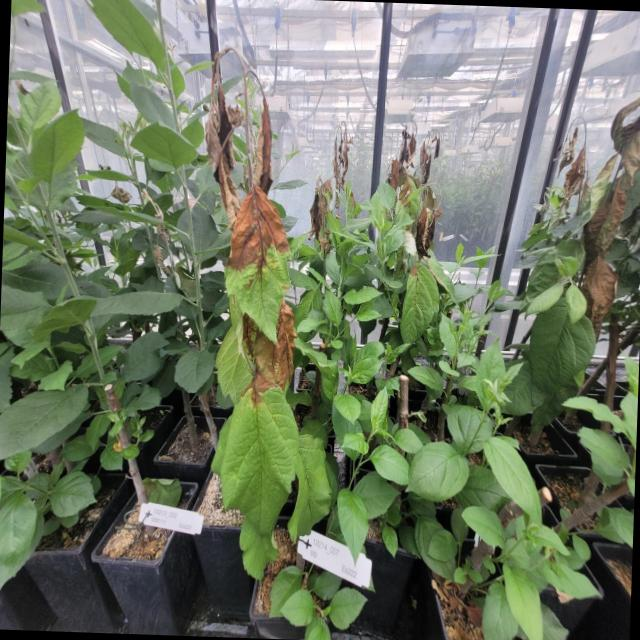-FireBlight-: (210, 39, 298, 524), (553, 94, 640, 335), (378, 130, 442, 268), (306, 127, 350, 257)
